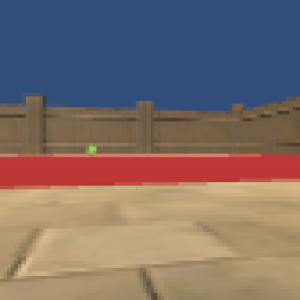deathZone: (3, 154, 300, 191)
goodGoal: (86, 144, 97, 156)
